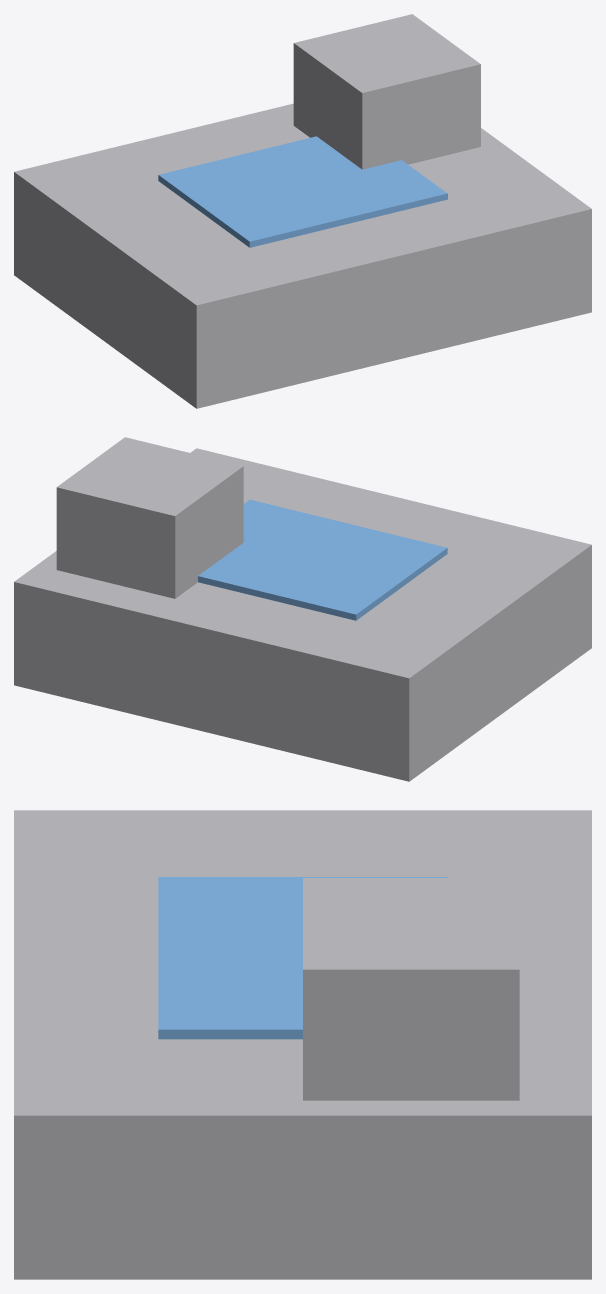
File: Prop_DS_Water_SpringRocks_V0.glb
The picture shows the model from 3 angles, top to bottom: view 1: azimuth 30°, elevation 25°; view 2: azimuth 150°, elevation 25°; view 3: azimuth 270°, elevation 25°; orthographic projection. The views are drawn at different scales.
Parts seen in each view (by area): view 1: Prop_DS_Water_SpringRocks_V0; view 2: Prop_DS_Water_SpringRocks_V0; view 3: Prop_DS_Water_SpringRocks_V0.
Part boxes in pixels (<box>): Prop_DS_Water_SpringRocks_V0: <box>14,14,591,408</box>; Prop_DS_Water_SpringRocks_V0: <box>14,437,591,781</box>; Prop_DS_Water_SpringRocks_V0: <box>14,810,591,1279</box>.
Bounding box in the file's own units: 2 × 0.9 × 1.6.
